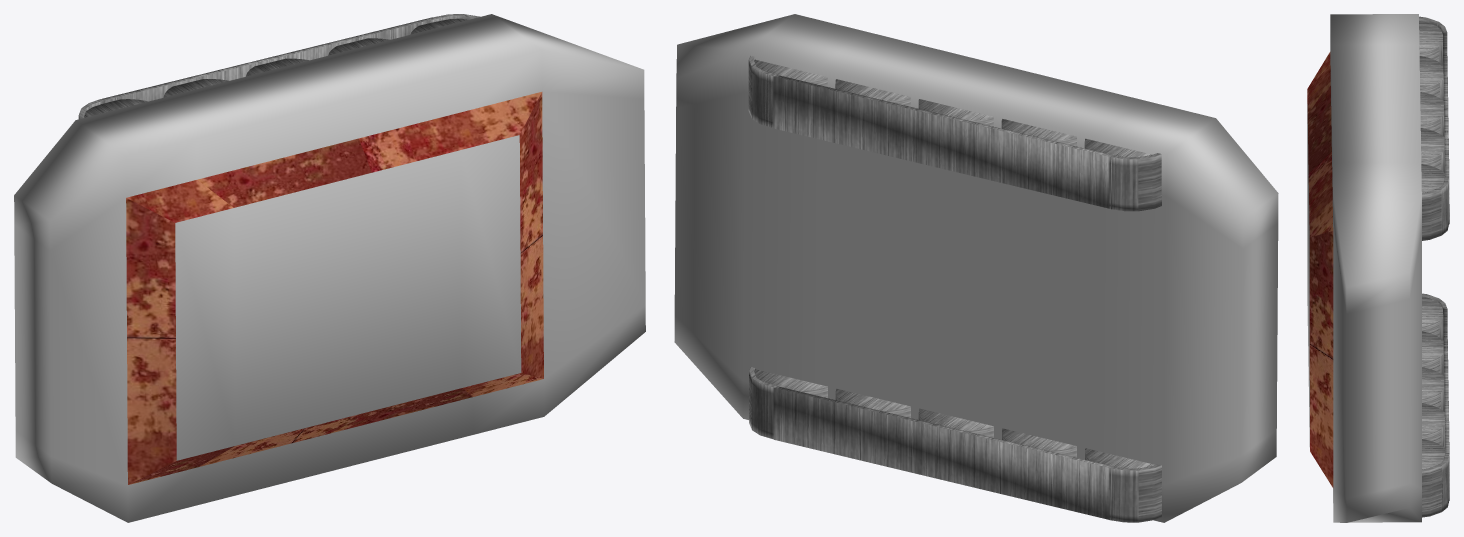
Rendered from tankboss-body.fbx.
3 renders of one model, left to right at view 1: azimuth 30°, elevation 25°; view 2: azimuth 150°, elevation 25°; view 3: azimuth 270°, elevation 25°, orthographic. The views are drawn at different scales.
Visible parts, largest first — view 1: Cube, Plane.001, Cube.002; view 2: Cube, Plane.001, Cube.002; view 3: Cube, Cube.002, Plane.001.
Part boxes in pixels (box(x1,y1,x2,y2)): Cube: box(14, 14, 645, 522); Plane.001: box(78, 14, 480, 119); Cube.002: box(84, 18, 468, 117); Cube: box(674, 14, 1278, 522); Plane.001: box(748, 56, 1161, 522); Cube.002: box(754, 59, 1154, 468); Cube: box(1307, 14, 1421, 522); Cube.002: box(1419, 21, 1445, 469); Plane.001: box(1419, 16, 1449, 517).
Size of the model in its own units: 8.62 by 5.1 by 1.99.
